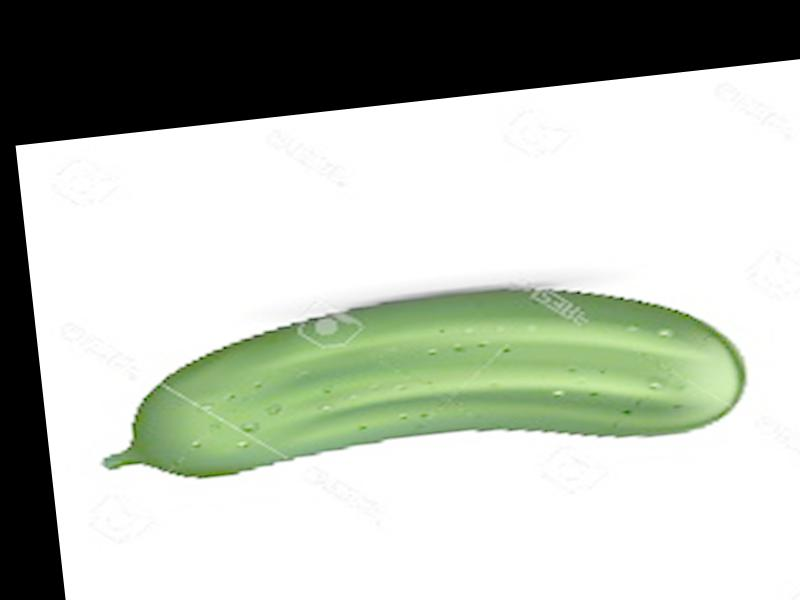Cucumber: (89, 260, 752, 496)
